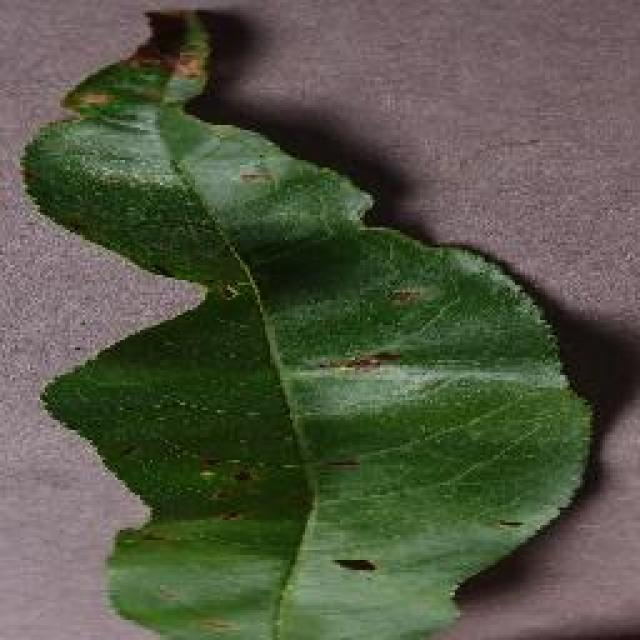Peach_Bacterial_Spot: (73, 33, 405, 442)
